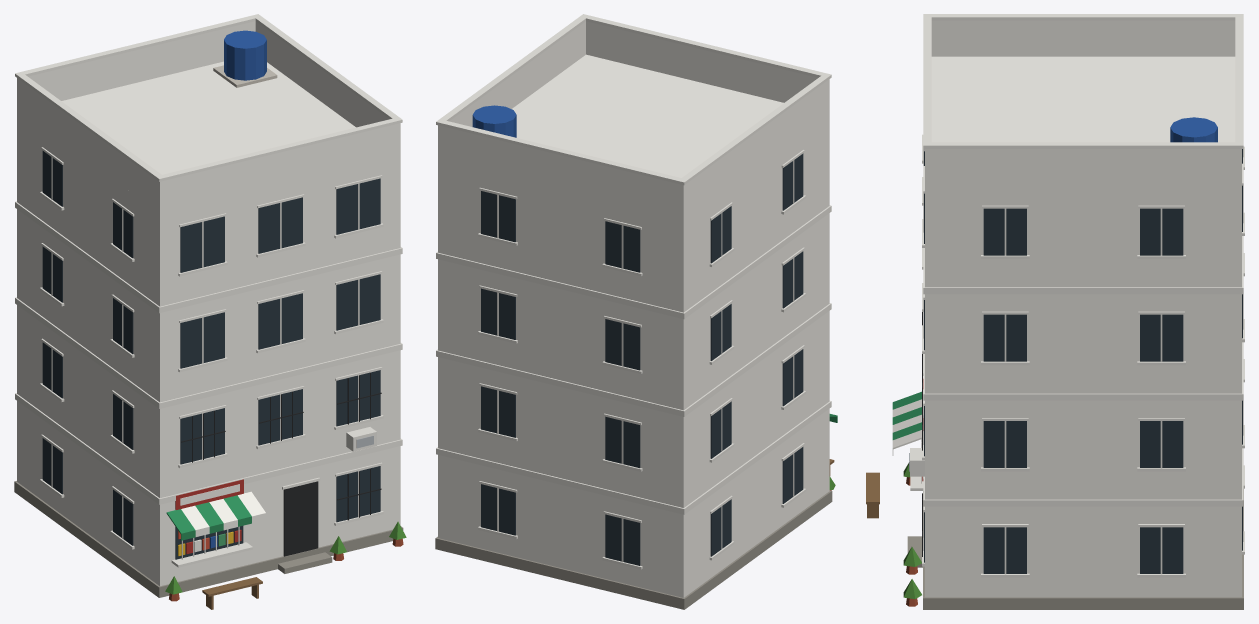
File: BAY_F_Tower_C.glb
3 views of the same model, side by side, from view 1: azimuth 30°, elevation 25°; view 2: azimuth 150°, elevation 25°; view 3: azimuth 270°, elevation 25° (orthographic). The views are drawn at different scales.
Parts seen in each view (by area): view 1: BAY_F_Tower_C; view 2: BAY_F_Tower_C; view 3: BAY_F_Tower_C.
Part boxes in pixels (<box>): BAY_F_Tower_C: <box>14,14,406,609</box>; BAY_F_Tower_C: <box>435,14,837,609</box>; BAY_F_Tower_C: <box>866,14,1244,609</box>.
Bounding box in the file's own units: 7.24 × 11.8 × 8.73.
1 material, 1 textured.
